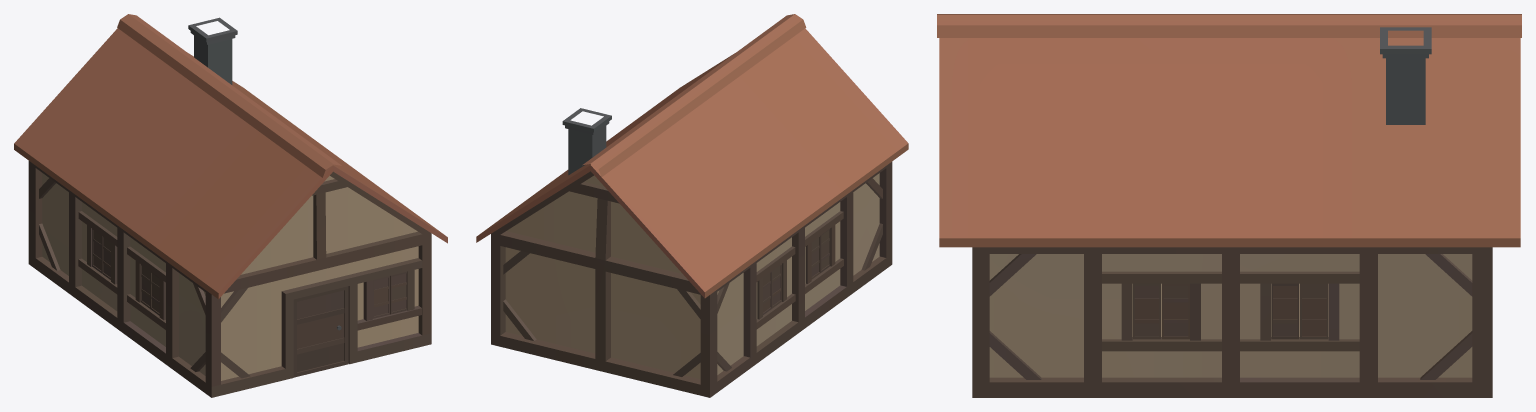
Rendered from house_cottage.glb.
3 views of the same model, side by side, from view 1: azimuth 30°, elevation 25°; view 2: azimuth 150°, elevation 25°; view 3: azimuth 270°, elevation 25° (orthographic). The views are drawn at different scales.
Parts seen in each view (by area): view 1: Cottage; view 2: Cottage; view 3: Cottage.
Boxes of the visible parts, box(x1,y1,x2,y2) form: Cottage: box(14, 14, 447, 397); Cottage: box(476, 14, 908, 397); Cottage: box(937, 14, 1521, 397).
Bounding box in the file's own units: 0.3 × 0.2763 × 0.4661.
Materials: 1 (1 with a texture image).
